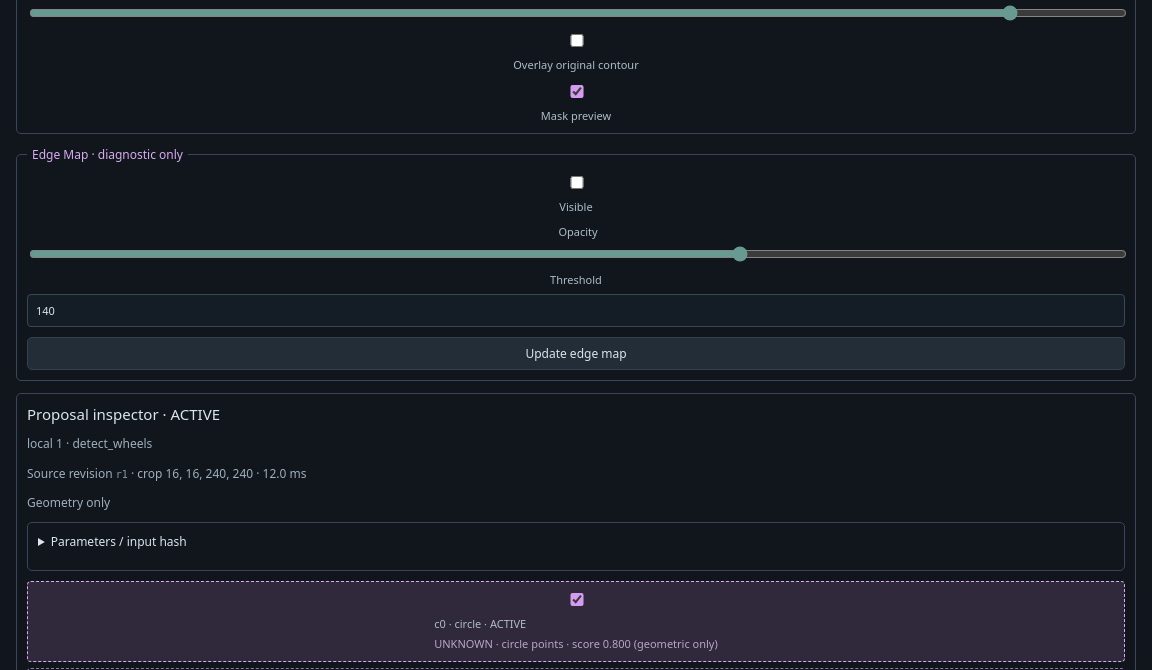
Test: source change stales proposals; rejection and parameter RERUN never call canonical edits
(page scrolled)
Check: the heading "Proposal inspector · ACTIVE" is shown, box left=27, top=404, right=220, bottom=424
Replace the text in the number field named "Edge Map threshold" with "210" at (576, 311), box left=27, top=294, right=1125, bottom=327
(page scrolled)
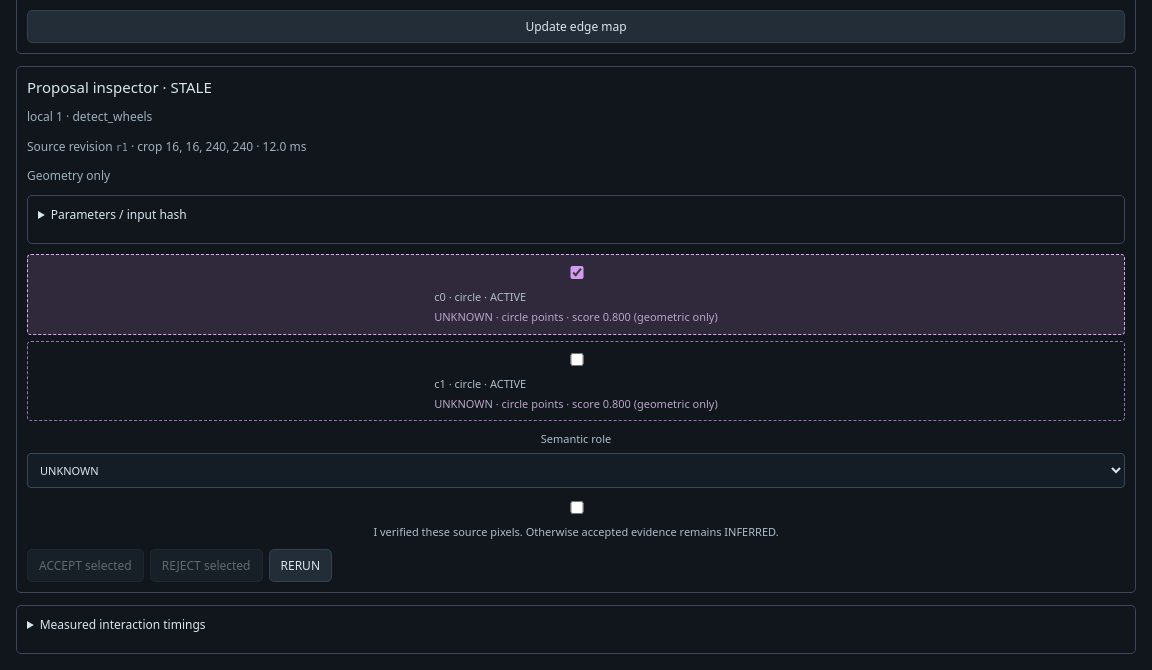
Check: the button "ACCEPT selected" is disabled, box left=27, top=549, right=144, bottom=582
Check: the heading "Proposal inspector · STALE" is shown, box left=27, top=77, right=212, bottom=97
Click the button "RERUN" at (300, 566), box left=268, top=549, right=332, bottom=582
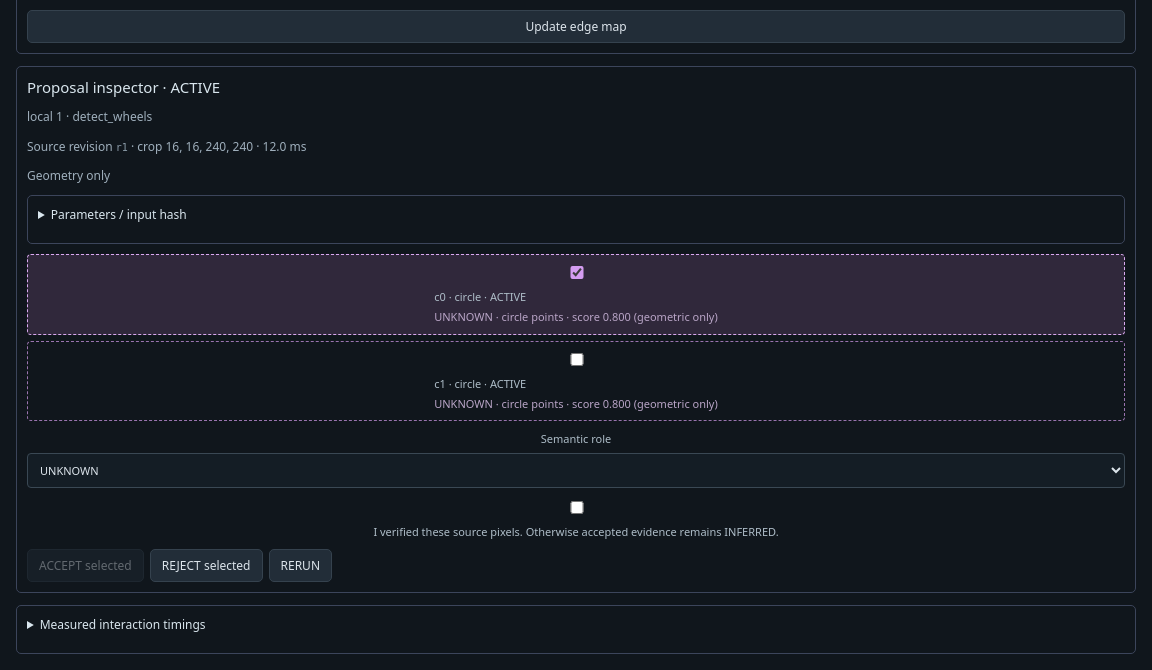
Check: the heading "Proposal inspector · ACTIVE" is shown, box left=27, top=77, right=220, bottom=97
Click the button "REJECT selected" at (206, 566), box left=150, top=549, right=262, bottom=582
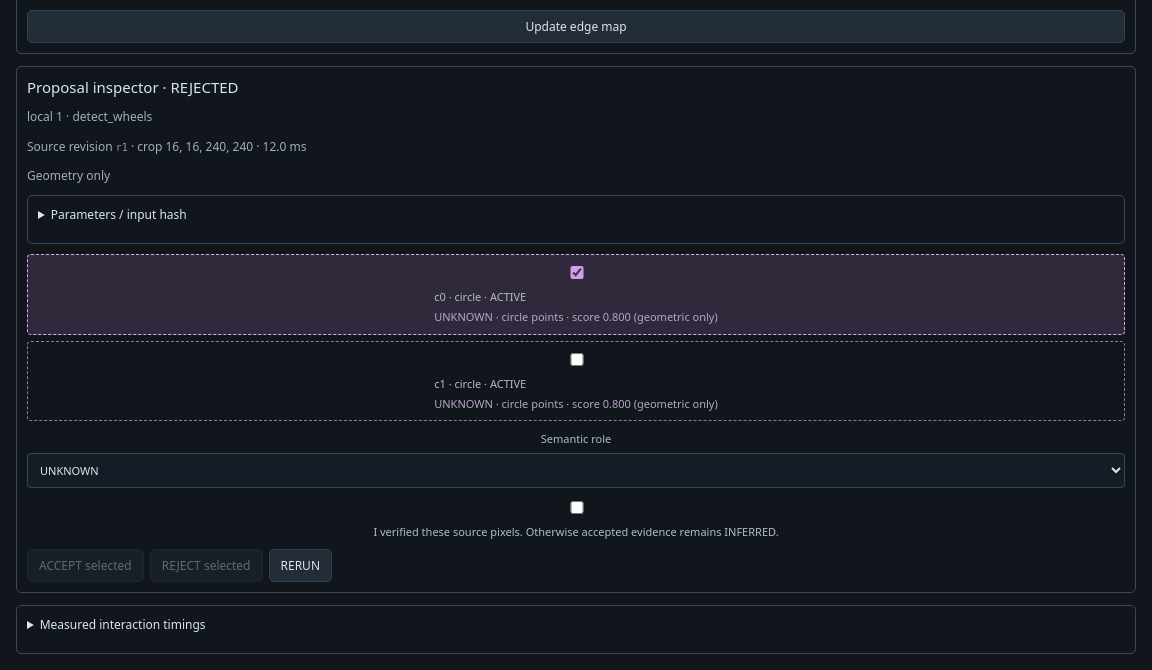
Check: the heading "Proposal inspector · REJECTED" is shown, box left=27, top=77, right=239, bottom=97
